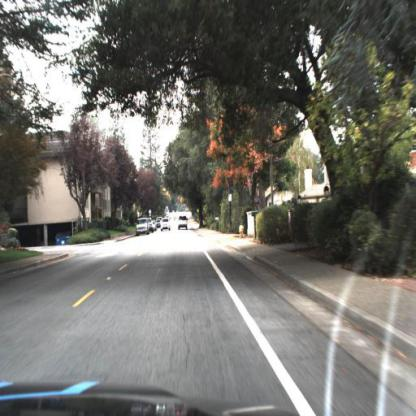car: (133, 214, 150, 239), (177, 212, 191, 235), (161, 218, 172, 230)
